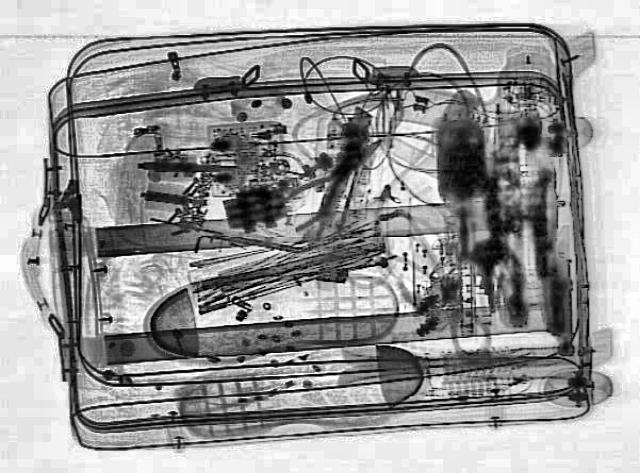Pliers: (260, 128, 398, 236)
